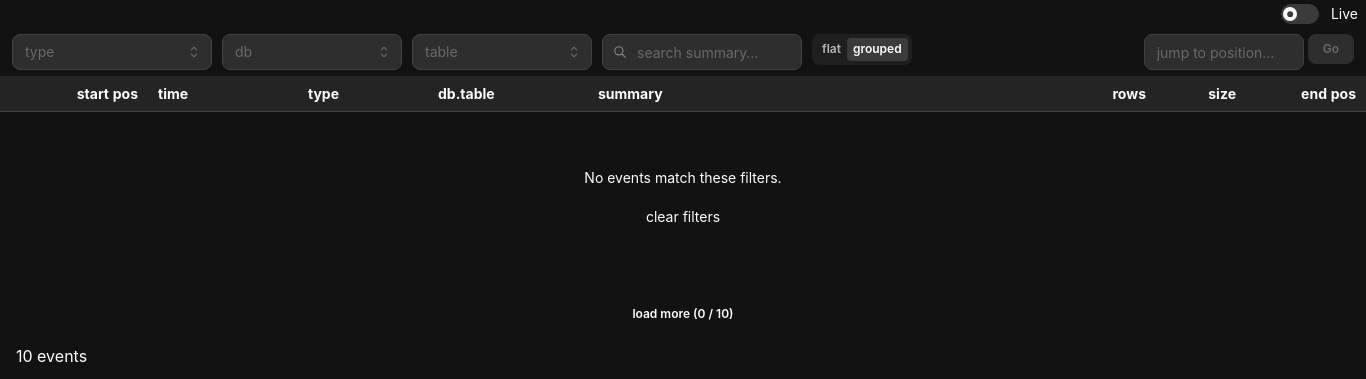
Test: EventsView live mode › 7. the load-more control is absent while live
This screenshot has width=1366, height=379.
Click the switch labelled "Live" at (1319, 14), box x1=1281 y1=4 x2=1358 y2=24
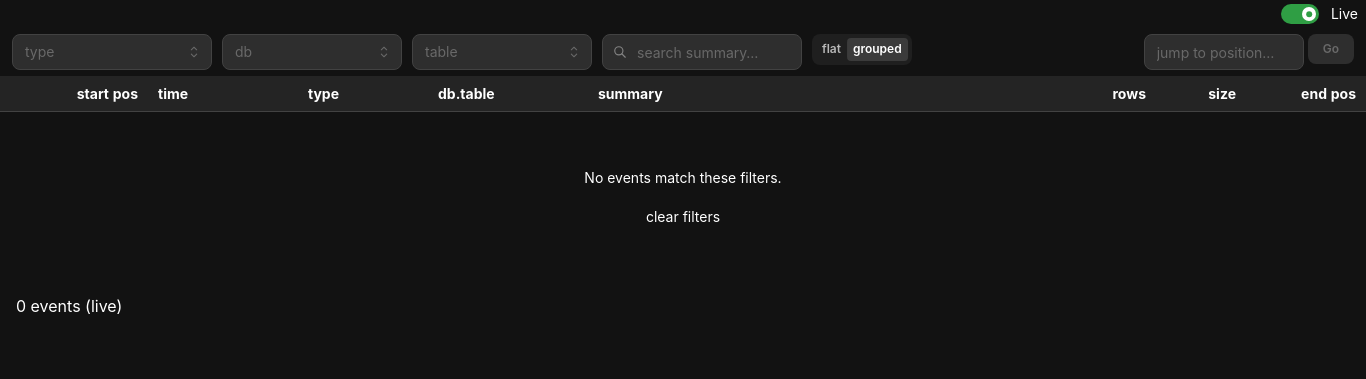
Expected: the switch labelled "Live" is checked, x1=1281 y1=4 x2=1358 y2=24
Expected: the button "load more" is gone
